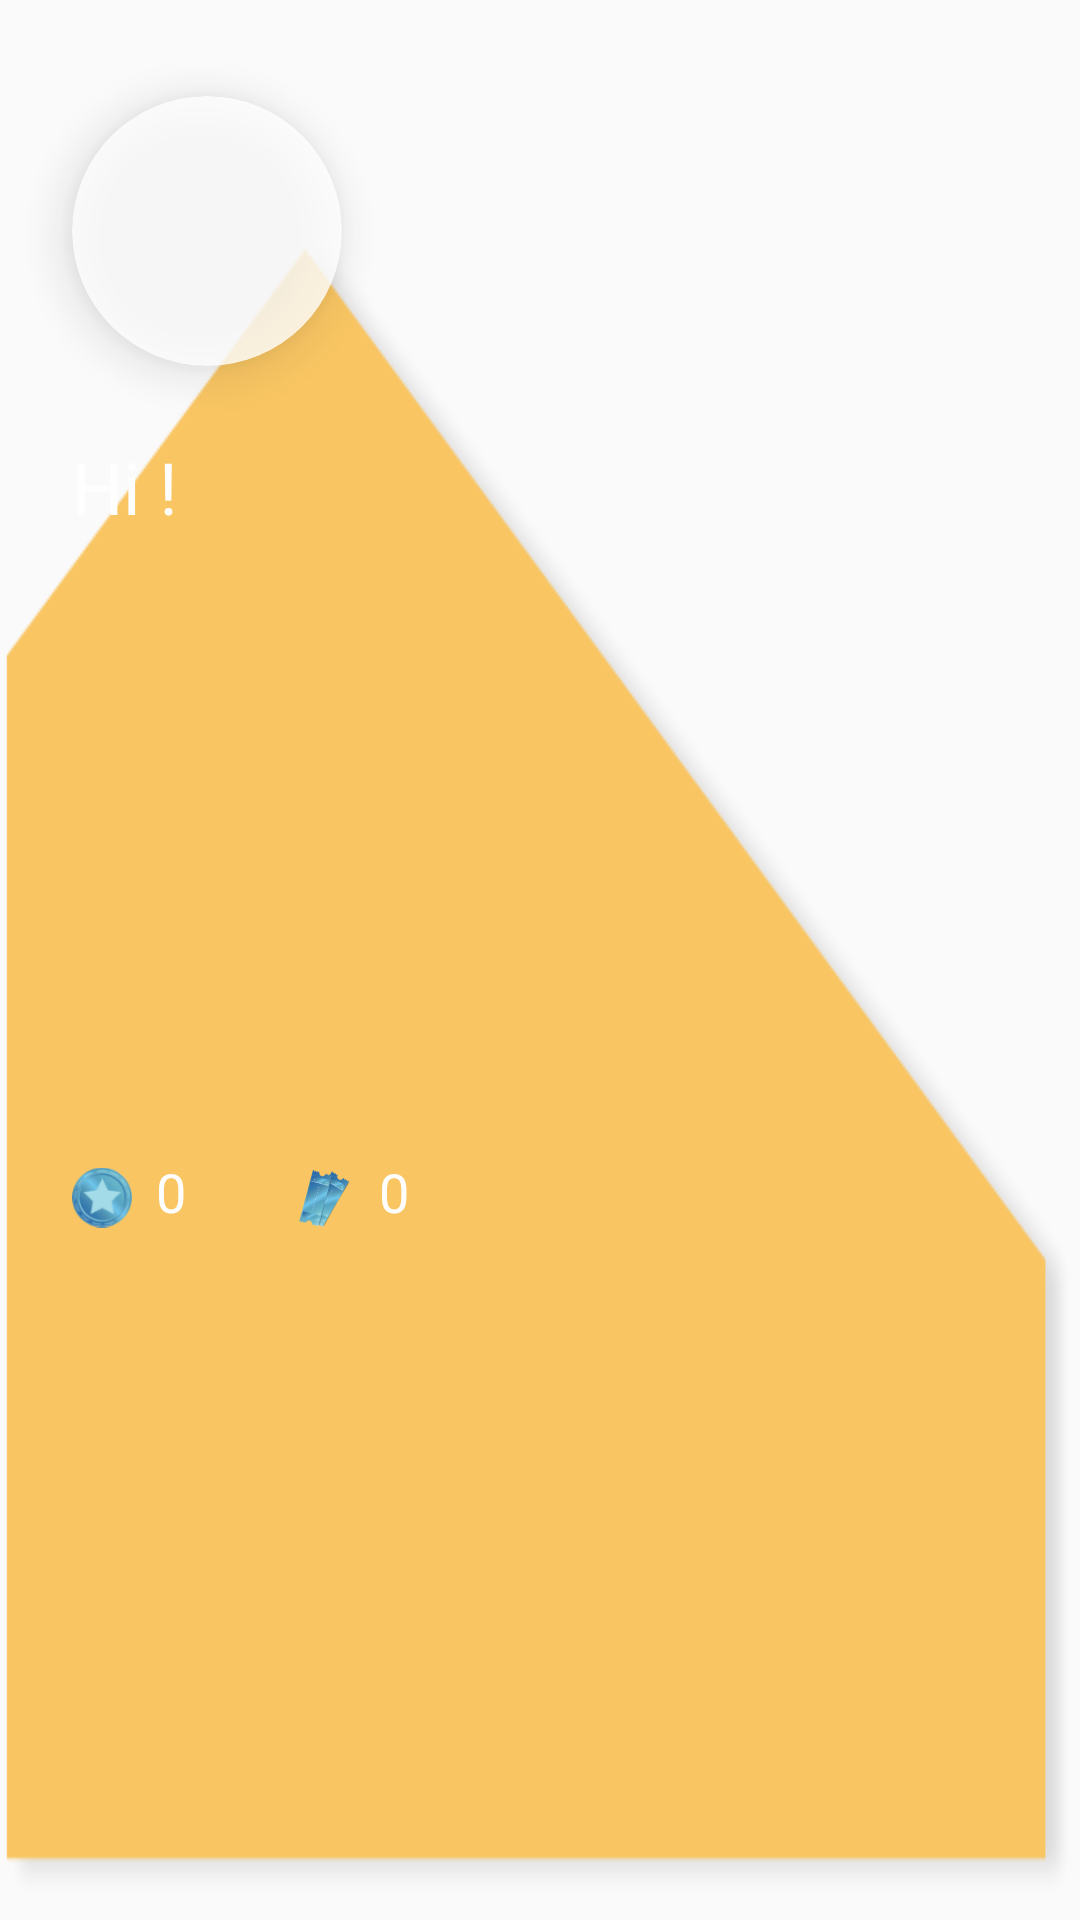

Named icons in this screenshot (1080*1920) and their centers, [x,y]:
coins: [102,1198]
tickets: [324,1198]
